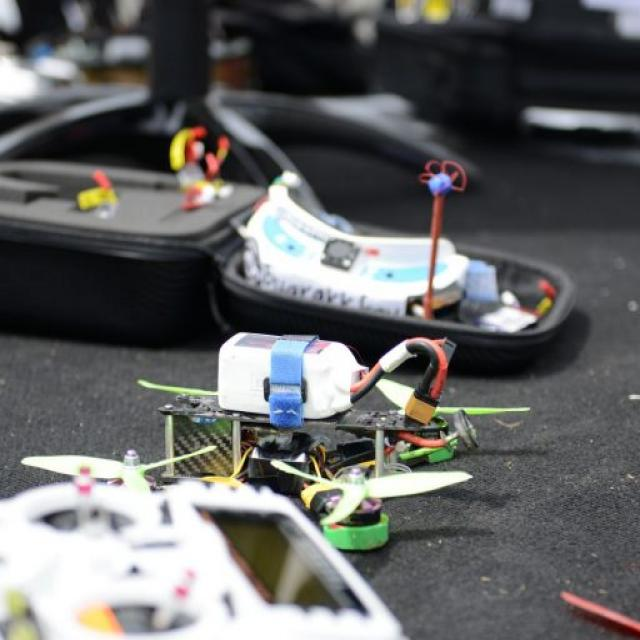drone: (54, 344, 576, 570)
